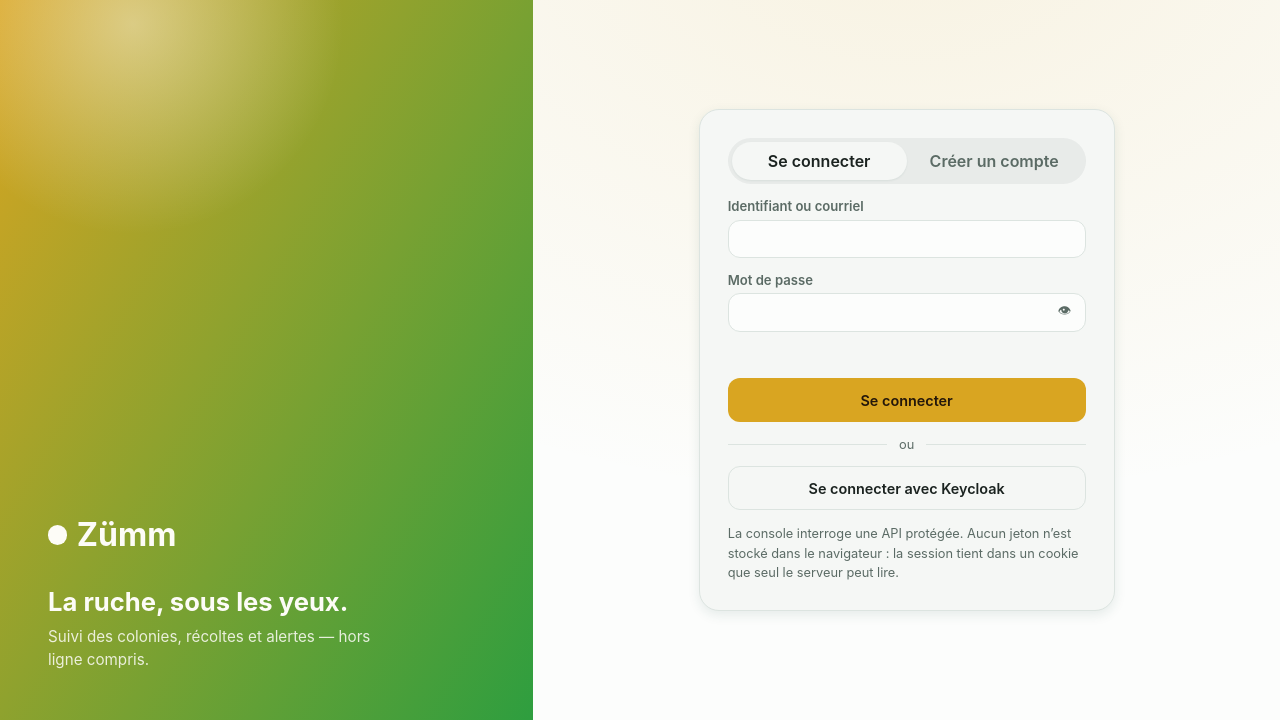
Test: écran d'entrée › garde la saisie et reste muet sur l’existence du compte quand le serveur refuse
Type "zoubeir" into the field labelled "Identifiant ou courriel". click: x=907, y=239
box: [728, 220, 1086, 258]
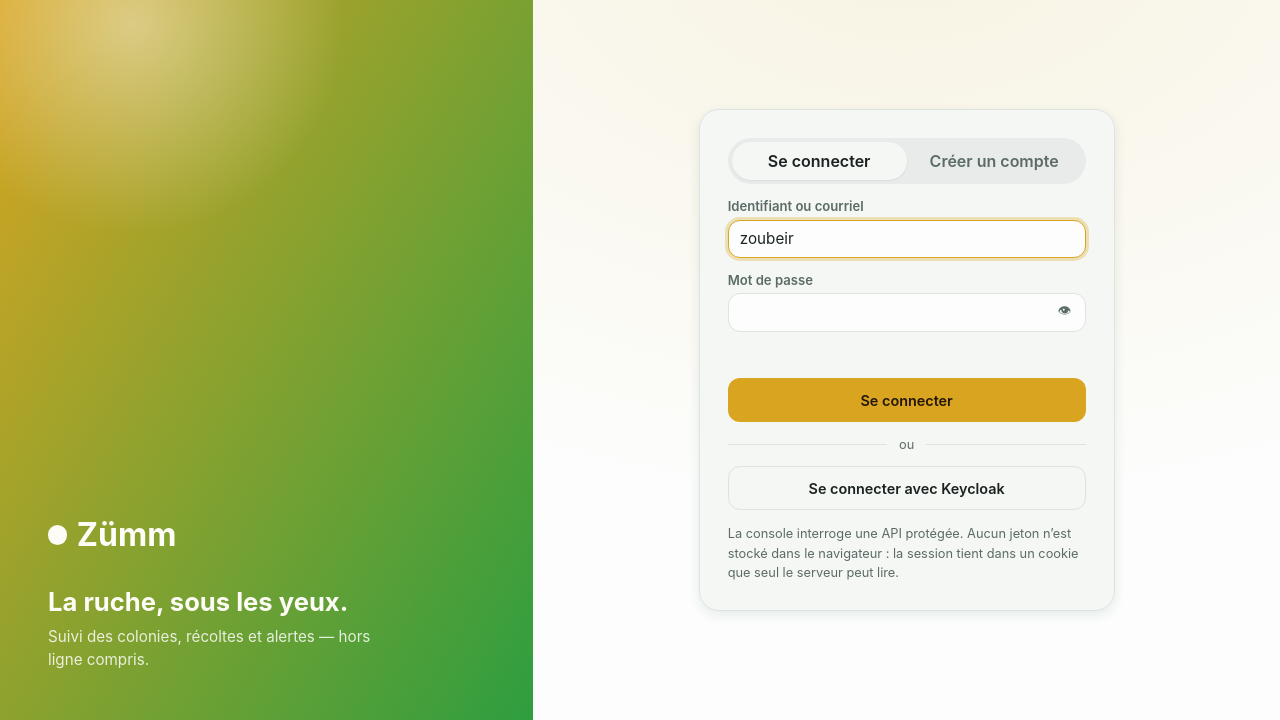
Type "faux" into the password field labelled "Mot de passe". click: x=907, y=313
box: [728, 293, 1086, 332]
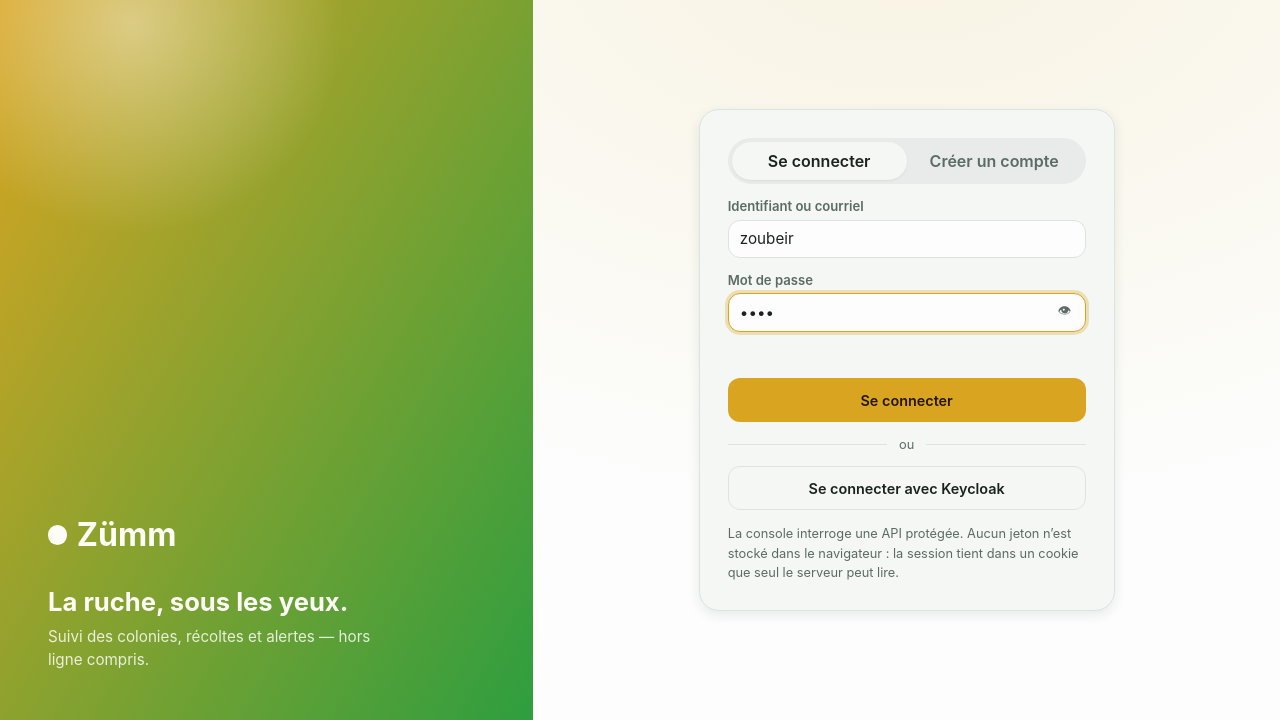
Click the button "Se connecter". click: x=907, y=400
box: [728, 378, 1086, 422]
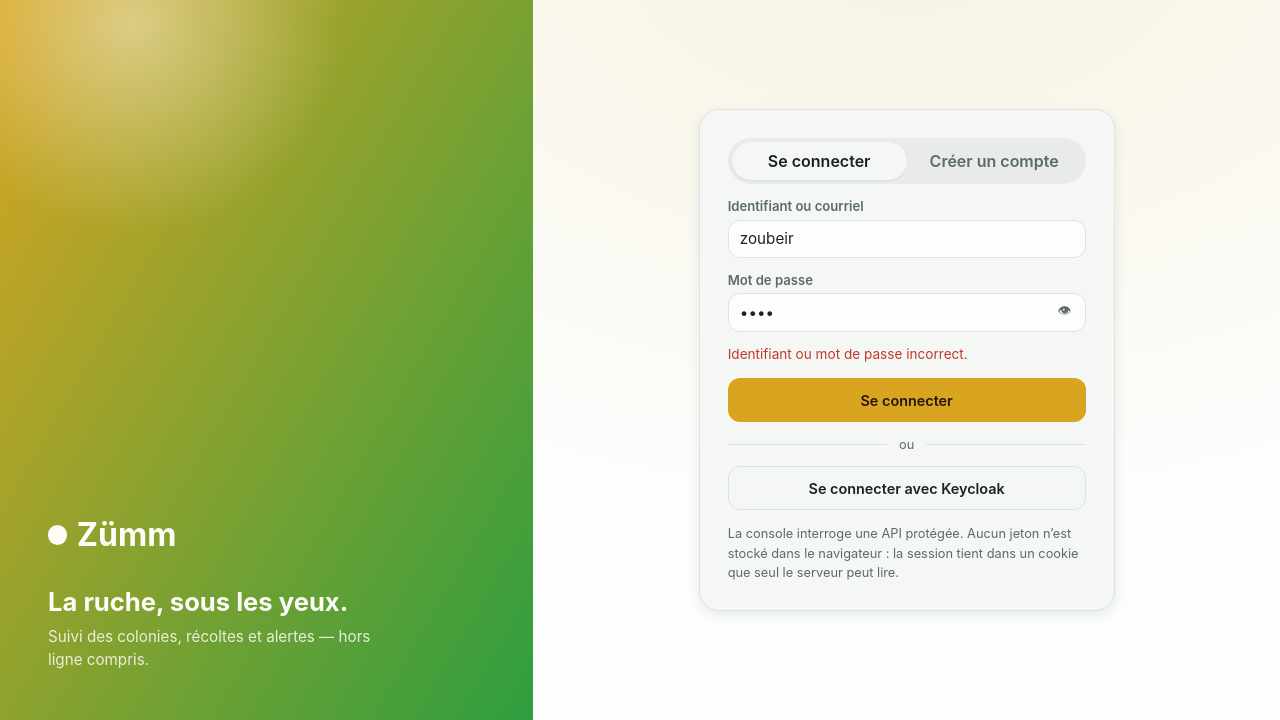
Expected: the message reads "Identifiant ou mot de passe incorrect.", [728, 346, 968, 362]
